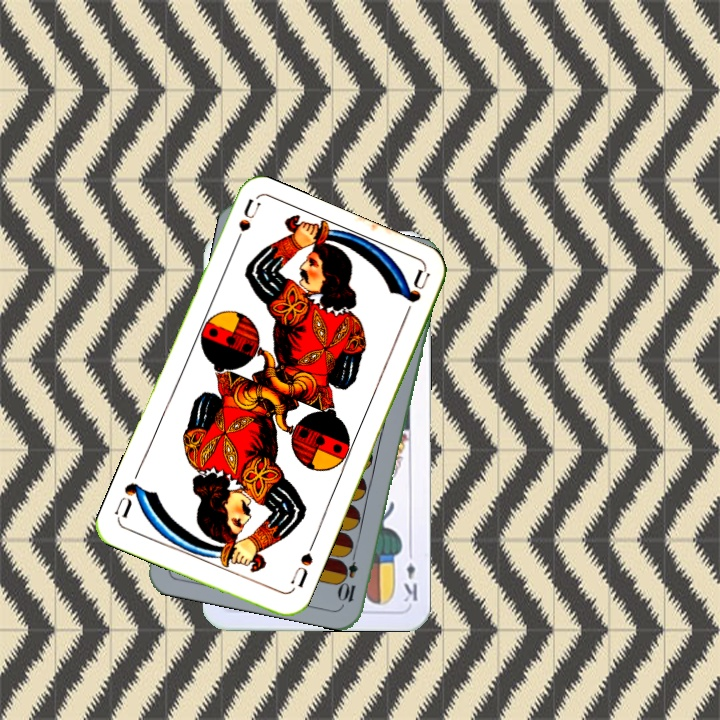E10: (337, 546, 361, 605)
EK: (400, 546, 420, 605)
SU: (228, 196, 263, 254), (286, 538, 317, 594)
